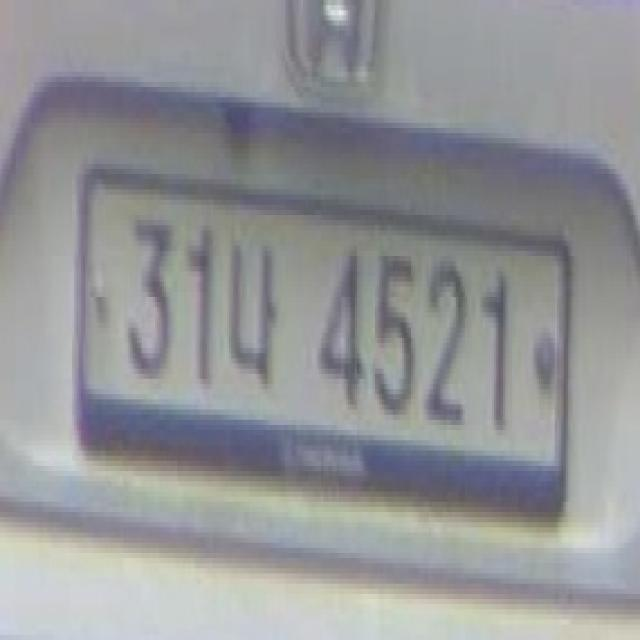1: (182, 215, 220, 384), (476, 272, 510, 436)
2: (422, 251, 465, 430)
3: (126, 215, 173, 384)
4: (317, 240, 366, 410)
5: (368, 246, 413, 410)
license_plate: (76, 169, 566, 481)
na: (224, 241, 278, 389)
